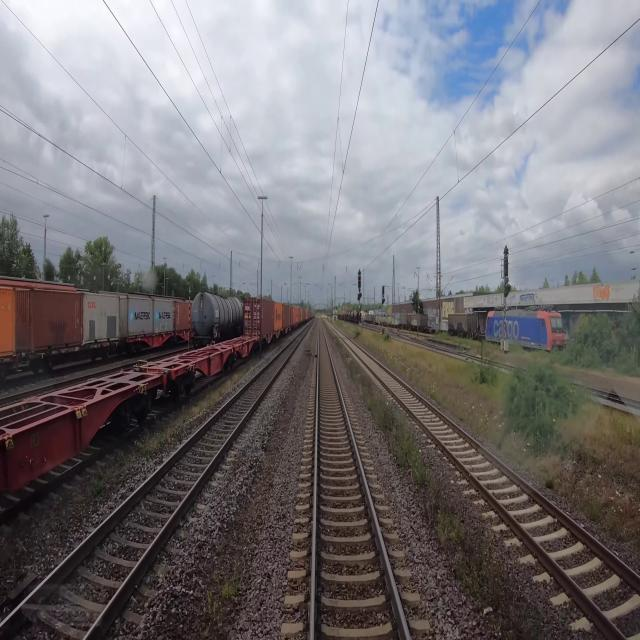Plant: (345, 325, 639, 547), (434, 510, 542, 639), (349, 363, 437, 495), (199, 565, 244, 634), (362, 325, 411, 341)
